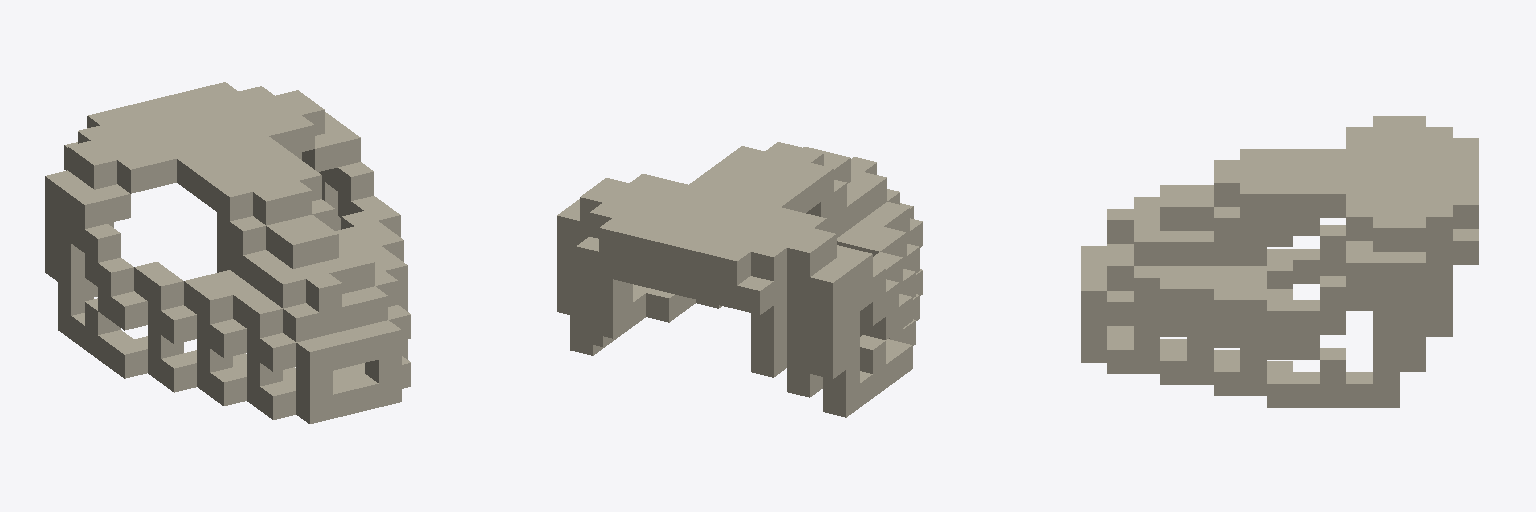
The picture shows the model from 3 angles: view 1: azimuth 30°, elevation 25°; view 2: azimuth 150°, elevation 25°; view 3: azimuth 270°, elevation 25°; orthographic projection.
Visible parts, largest first — view 1: CHEREPUSHKA; view 2: CHEREPUSHKA; view 3: CHEREPUSHKA.
Part boxes in pixels (left/top/right/bottom): CHEREPUSHKA: left=45, top=82, right=410, bottom=423; CHEREPUSHKA: left=557, top=142, right=922, bottom=417; CHEREPUSHKA: left=1081, top=116, right=1478, bottom=407.
Bounding box in the file's own units: 1.2 × 0.7 × 1.5.
Materials: 1 (1 with a texture image).